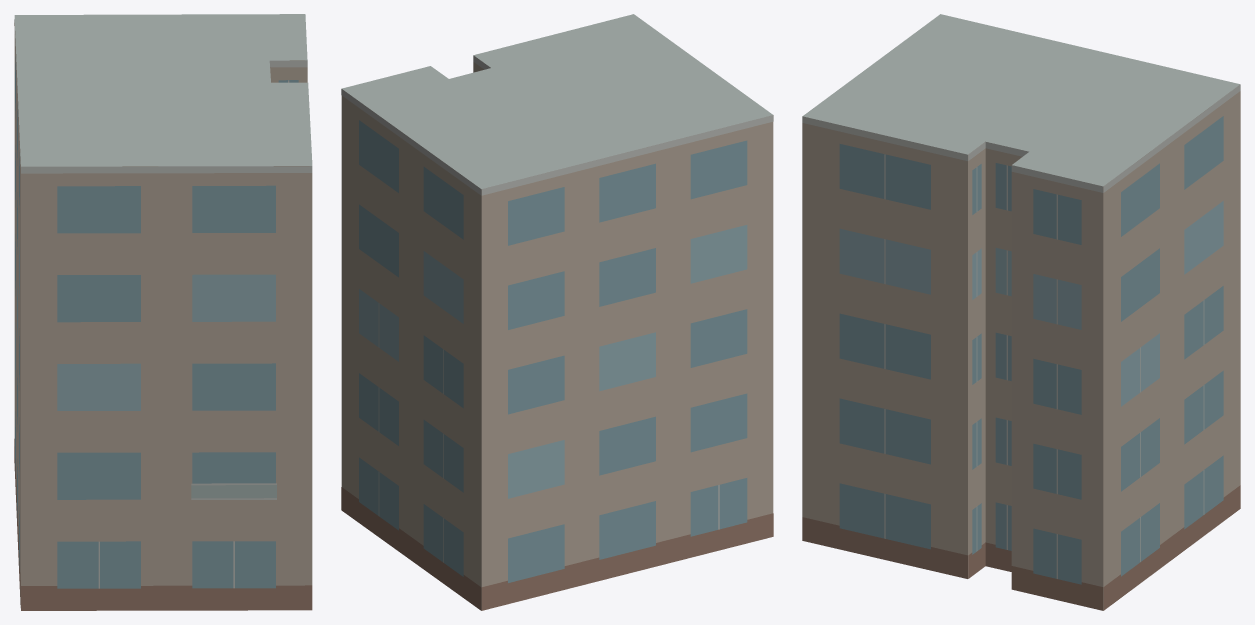
File: survey-upis-32689666.glb
The picture shows the model from 3 angles, left to right: view 1: azimuth 30°, elevation 25°; view 2: azimuth 150°, elevation 25°; view 3: azimuth 270°, elevation 25°; orthographic projection. The views are drawn at different scales.
Visible parts, largest first — view 1: survey-upis-32689666.tmp; view 2: survey-upis-32689666.tmp; view 3: survey-upis-32689666.tmp.
Part boxes in pixels (bbox=[...]): survey-upis-32689666.tmp: bbox=[14, 14, 312, 610]; survey-upis-32689666.tmp: bbox=[341, 14, 773, 610]; survey-upis-32689666.tmp: bbox=[802, 14, 1240, 610].
Size of the model in its own units: 13.69 by 15.7 by 14.7.
